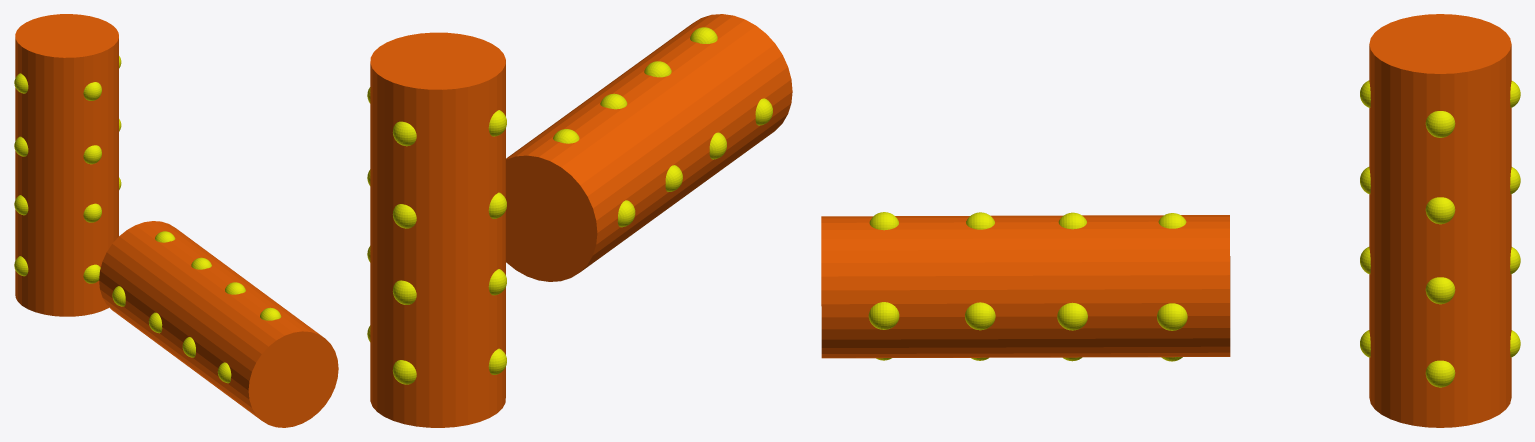
The picture shows the model from 3 angles, left to right: view 1: azimuth 30°, elevation 25°; view 2: azimuth 150°, elevation 25°; view 3: azimuth 270°, elevation 25°; orthographic projection. The views are drawn at different scales.
Visible parts, largest first — view 1: Cylinder, Cylinder.001; view 2: Cylinder, Cylinder.001, Sphere.002, Sphere.005, Sphere.010, Sphere.013; view 3: Cylinder, Cylinder.001, Sphere.024, Sphere.016, Sphere.031, Sphere.023, Sphere, Sphere.007, Sphere.008, Sphere.015.
Part boxes in pixels (<box>): Cylinder: <box>15,14,118,316</box>; Cylinder.001: <box>99,221,338,427</box>; Cylinder: <box>370,32,505,427</box>; Cylinder.001: <box>506,14,792,281</box>; Sphere.002: <box>392,360,416,384</box>; Sphere.005: <box>392,280,416,304</box>; Sphere.010: <box>392,204,416,228</box>; Sphere.013: <box>392,121,416,146</box>; Cylinder: <box>1369,14,1511,427</box>; Cylinder.001: <box>821,215,1230,358</box>; Sphere.024: <box>965,302,995,330</box>; Sphere.016: <box>1157,303,1187,330</box>; Sphere.031: <box>868,302,899,329</box>; Sphere.023: <box>1057,302,1087,330</box>; Sphere: <box>1425,360,1455,387</box>; Sphere.007: <box>1425,277,1455,304</box>; Sphere.008: <box>1425,197,1455,224</box>; Sphere.015: <box>1425,111,1455,137</box>.
Size of the model in its own units: 231 by 549 by 984.
